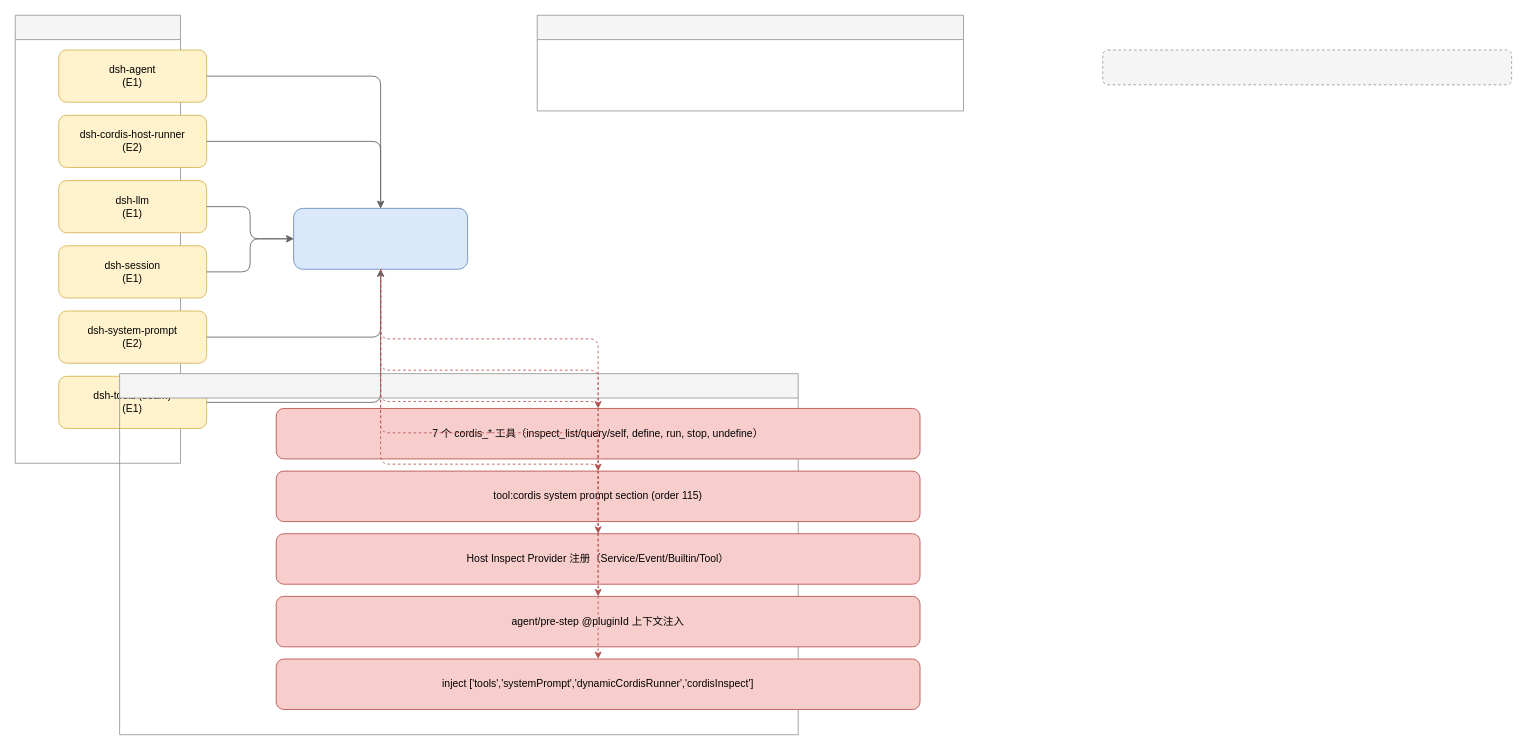
Some shapes in this 1527 by 750 pixel diagram are drawn without their labels. The box of each missing label's shape, as (x1, y1, x2, y2) in pixels:
@deepseek-ai/dsh-tool-cordis: (293, 207, 468, 269)
上游依赖 upstream: (14, 14, 181, 463)
下游被依赖 dependents: (536, 14, 964, 111)
提供服务 provides（关键项）: (119, 373, 798, 735)
无下游: (1102, 49, 1512, 85)
